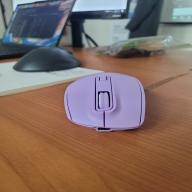mouse: (63, 71, 149, 133), (11, 46, 81, 72)
